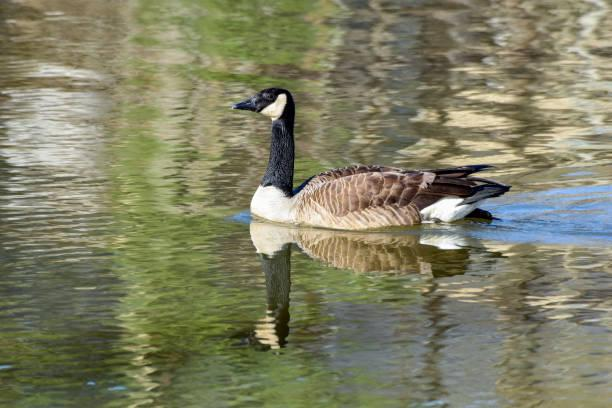Canadian-Goose: (230, 85, 513, 230)
